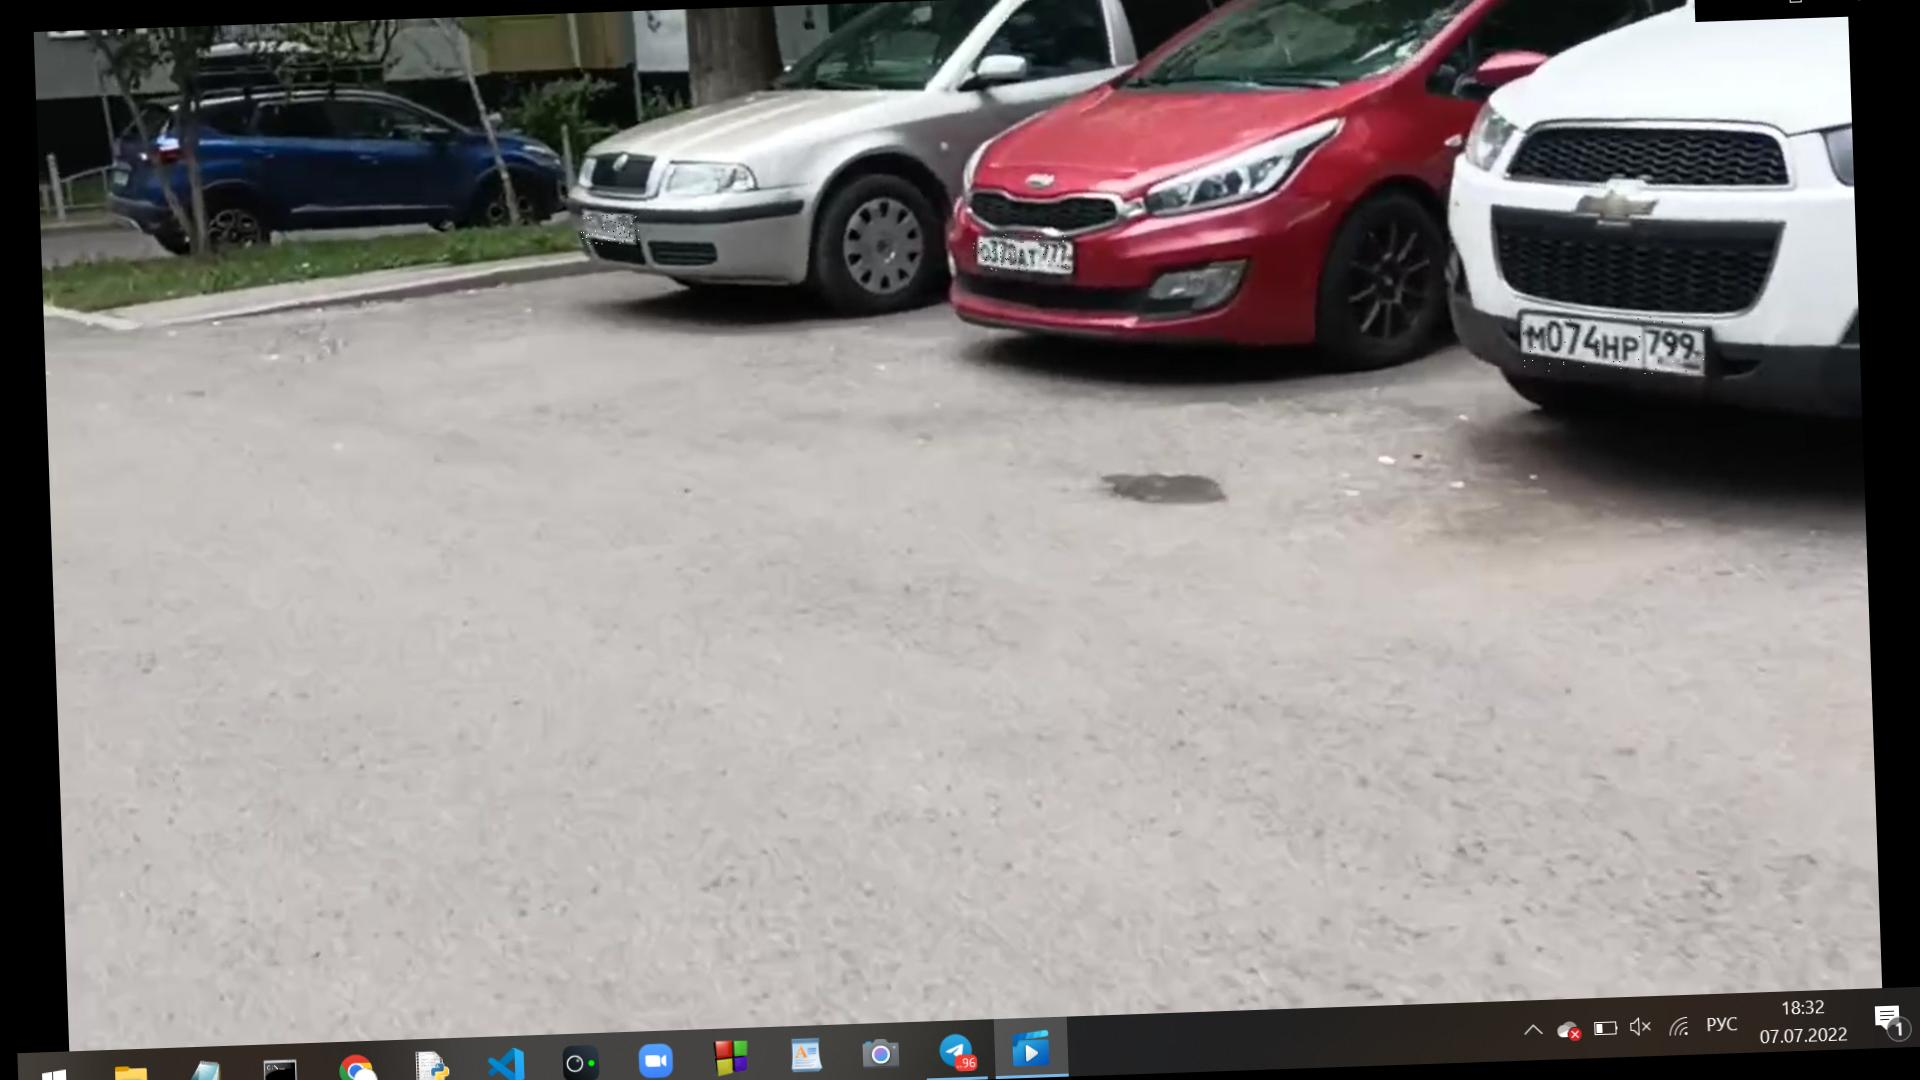plate: (1522, 316, 1717, 383), (974, 233, 1070, 274), (583, 215, 642, 247)
